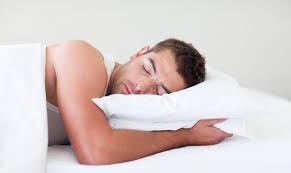sleeping: (3, 39, 242, 167)
